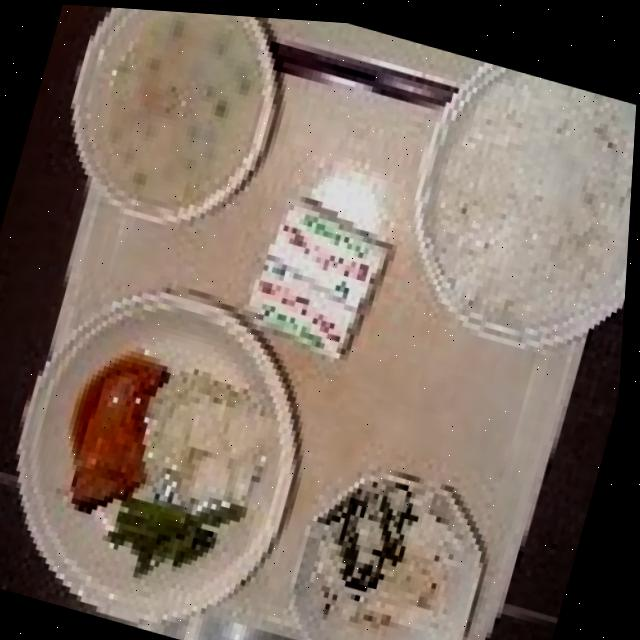熟制海鲜: (50, 335, 191, 537)
